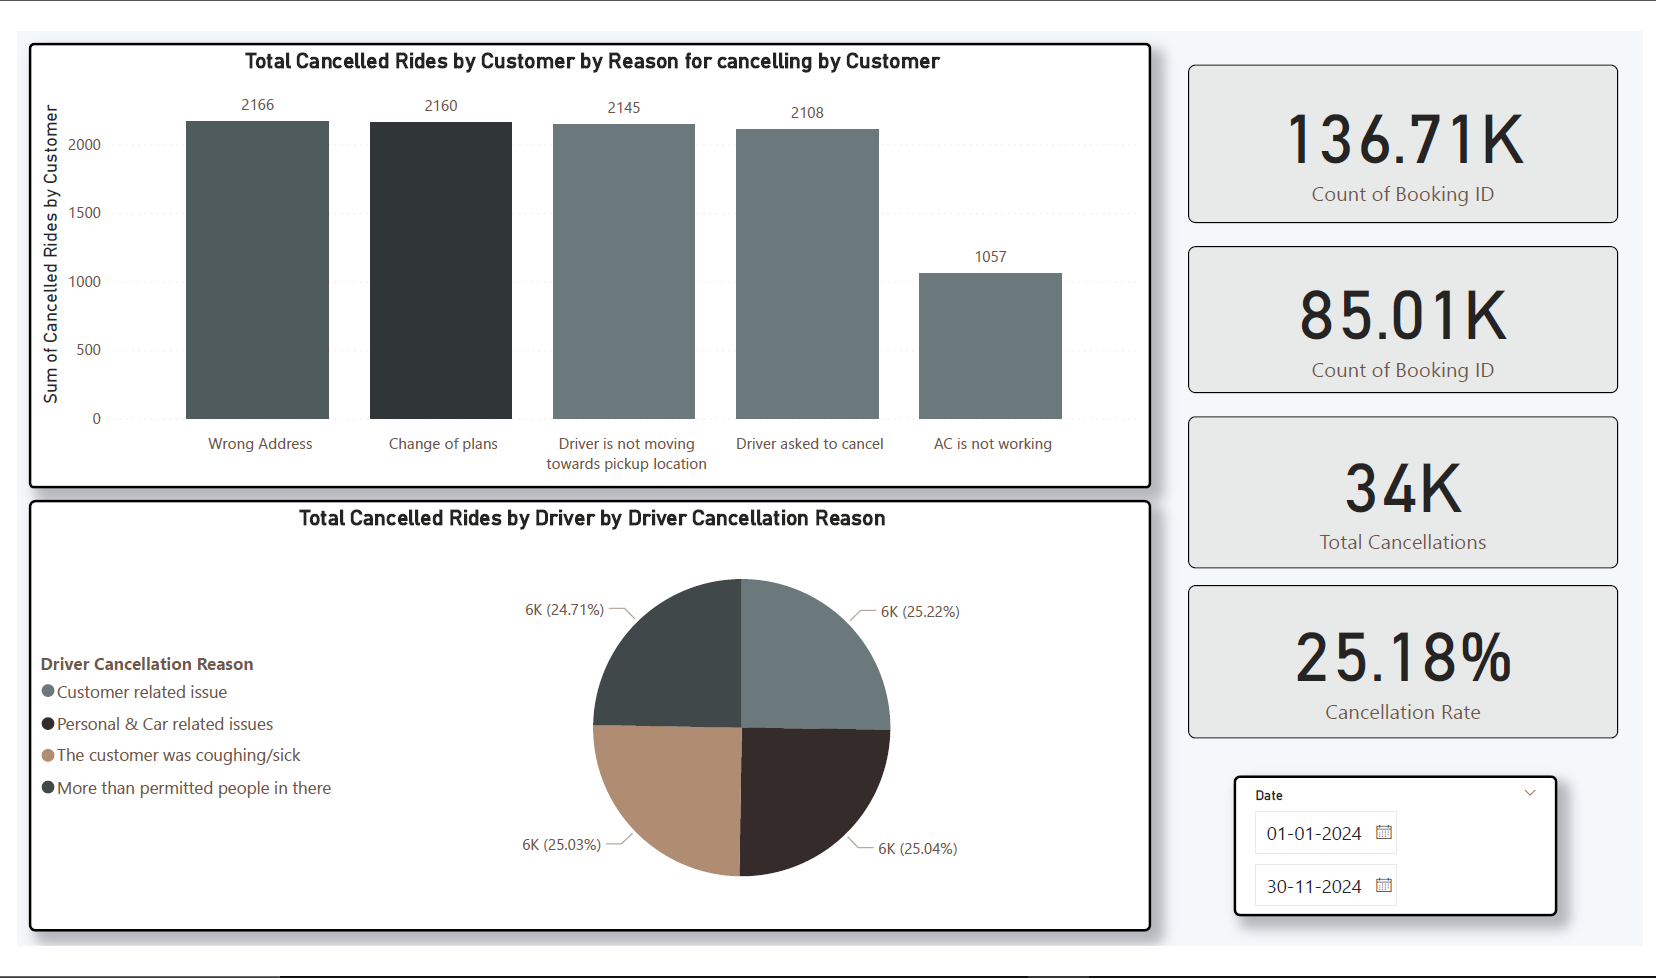

What the dashboard file says about the page in this screenshot:
{"tool":"powerbi","page":{"name":"Cancellation analysis","canvas":[1280,720],"ordinal":4},"visuals":[{"type":"columnChart","title":"Total Cancelled Rides by Customer by Reason for cancelling by Customer","fields":{"Category":["rideBookings.Reason for cancelling by Customer"],"Y":["Sum(rideBookings.Cancelled Rides by Customer)"]},"box":[9.3,9.3,883.7,351.2],"z":0},{"type":"pieChart","title":"Total Cancelled Rides by Driver by Driver Cancellation Reason","fields":{"Y":["Sum(rideBookings.Cancelled Rides by Driver)"],"Category":["rideBookings.Driver Cancellation Reason"]},"box":[9.3,368.6,883.7,340.7],"z":1000},{"type":"slicer","fields":{"Values":["rideBookings.Date"]},"box":[958.1,586,254.7,110.5],"z":2000},{"type":"card","fields":{"Values":["Count(rideBookings.Booking ID)"]},"box":[922.1,26.1,338.9,124.9],"z":3000},{"type":"card","fields":{"Values":["Count(rideBookings.Booking ID)"]},"box":[922.1,168.8,338.9,116.6],"z":4000},{"type":"card","fields":{"Values":["rideBookings.Total Cancellations"]},"box":[922.1,303.3,338.9,119.4],"z":5000},{"type":"card","fields":{"Values":["rideBookings.Cancellation Rate"]},"box":[922.1,436.4,338.9,120.8],"z":6000}]}

Visuals, with their boxes in screenshot pixels (x1, y1, x2, y2):
"Total Cancelled Rides by Customer by Reason for cancelling by Customer" columnChart: {"left": 20, "top": 38, "right": 1148, "bottom": 486}
"Total Cancelled Rides by Driver by Driver Cancellation Reason" pieChart: {"left": 20, "top": 496, "right": 1148, "bottom": 931}
slicer - rideBookings.Date: {"left": 1231, "top": 774, "right": 1556, "bottom": 915}
card - Count(rideBookings.Booking ID): {"left": 1185, "top": 59, "right": 1617, "bottom": 219}
card - Count(rideBookings.Booking ID): {"left": 1185, "top": 241, "right": 1617, "bottom": 390}
card - rideBookings.Total Cancellations: {"left": 1185, "top": 413, "right": 1617, "bottom": 565}
card - rideBookings.Cancellation Rate: {"left": 1185, "top": 583, "right": 1617, "bottom": 737}
